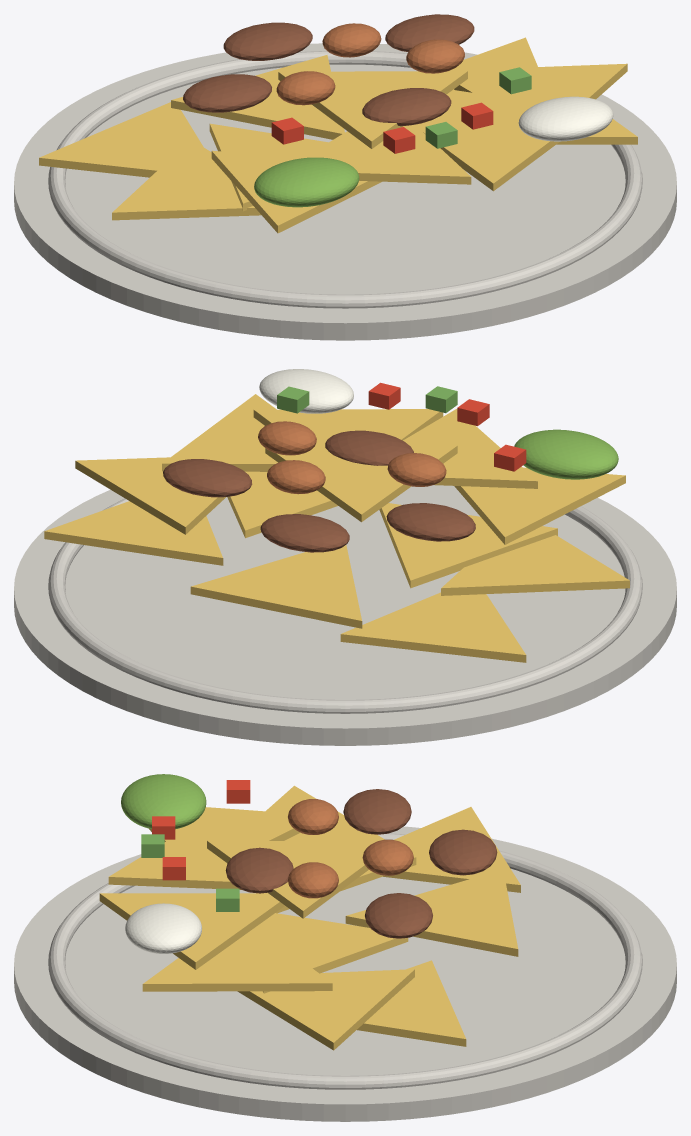
File: nachos-de-la-casa-v140.glb
3 views of the same model, one above another, from view 1: azimuth 30°, elevation 25°; view 2: azimuth 150°, elevation 25°; view 3: azimuth 270°, elevation 25° (orthographic).
Visible parts, largest first — view 1: world, chip_0, chip_10, chip_7, chip_9, chip_6, chip_2, chip_5, chip_11, chip_8, chip_1, chip_4 (+1 smaller); view 2: world, chip_2, chip_0, chip_10, chip_4, chip_5, chip_11, chip_1, chip_9, chip_6, chip_8, chip_7 (+1 smaller); view 3: world, chip_8, chip_11, chip_2, chip_7, chip_6, chip_4, chip_3, chip_9, chip_0, chip_5, chip_10.
Part boxes in pixels (x1,y1,x2,y2): world: [14, 14, 676, 340]; chip_0: [39, 102, 203, 177]; chip_10: [112, 140, 261, 220]; chip_7: [415, 113, 559, 191]; chip_9: [278, 71, 467, 148]; chip_6: [303, 124, 471, 184]; chip_2: [171, 55, 344, 139]; chip_5: [211, 150, 381, 233]; chip_11: [448, 63, 627, 99]; chip_8: [488, 68, 637, 144]; chip_1: [209, 123, 328, 211]; chip_4: [451, 37, 537, 89]; world: [14, 369, 676, 745]; chip_2: [190, 545, 362, 628]; chip_0: [340, 592, 526, 662]; chip_10: [441, 535, 629, 595]; chip_4: [44, 501, 223, 565]; chip_5: [454, 467, 625, 544]; chip_11: [75, 457, 225, 534]; chip_1: [379, 503, 557, 588]; chip_9: [265, 445, 457, 522]; chip_6: [403, 409, 537, 488]; chip_8: [162, 394, 277, 471]; chip_7: [253, 409, 443, 445]; world: [14, 774, 676, 1121]; chip_8: [142, 926, 332, 991]; chip_11: [237, 969, 414, 1050]; chip_2: [345, 869, 518, 956]; chip_7: [99, 893, 284, 969]; chip_6: [108, 811, 248, 889]; chip_4: [357, 960, 466, 1046]; chip_3: [256, 913, 408, 993]; chip_9: [207, 840, 376, 918]; chip_0: [383, 807, 520, 892]; chip_5: [149, 807, 300, 841]; chip_10: [266, 785, 384, 841].
Size of the model in its own units: 0.31 by 0.0776 by 0.31.
